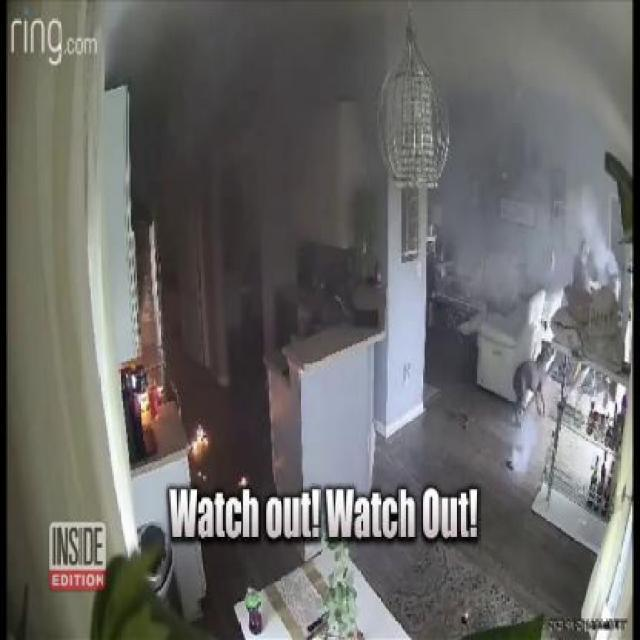fire: (189, 424, 211, 468)
smoke: (132, 6, 314, 146), (461, 9, 630, 134), (578, 179, 620, 279), (507, 422, 536, 488)
